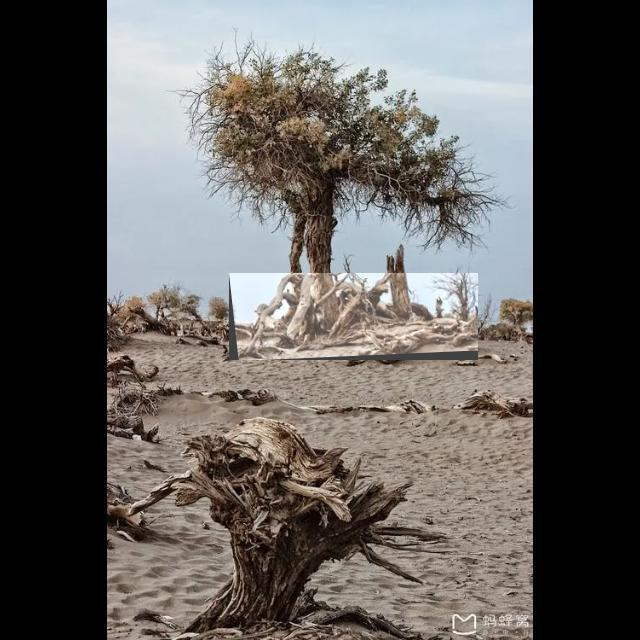fallen_tree: (229, 273, 479, 361)
